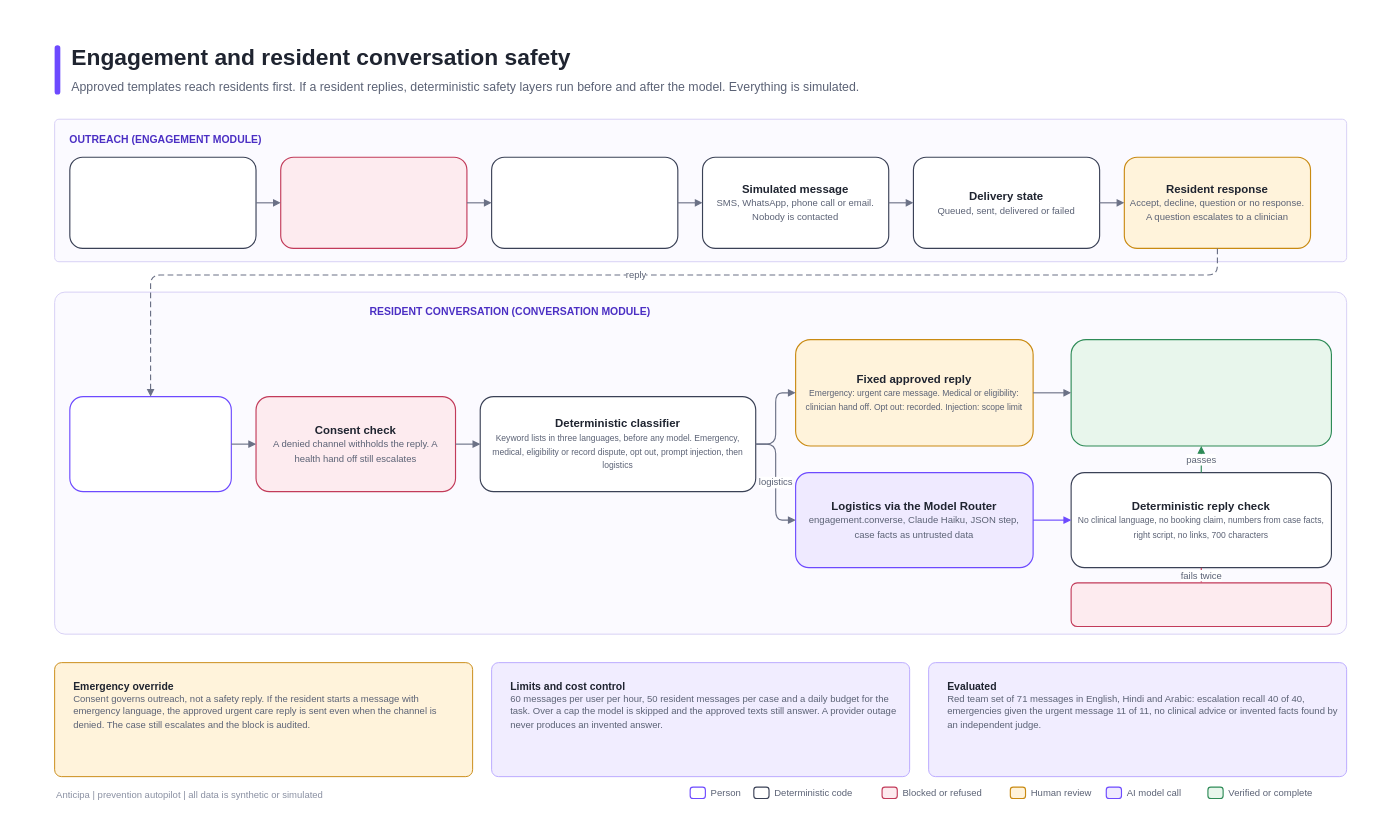
This 1400x830 diagram has some shape labels left out. The shapes that lost their labels are listed below. From the top down, each one's centre as x and y in pixels, then its label:
the point at 162,202: Planned case A slot is allocated
the point at 373,202: Consent check Channel must be permitted. Denied: 409, audited, nothing sent
the point at 584,202: Approved template English, Hindi or Arabic. No AI by default
the point at 1201,392: Reply stored Labelled simulated. Escalation goes through the one case lifecycle
the point at 150,444: Resident message Typed in the simulation, up to 600 characters
the point at 1201,604: Could not prepare a reply Approved fallback text
